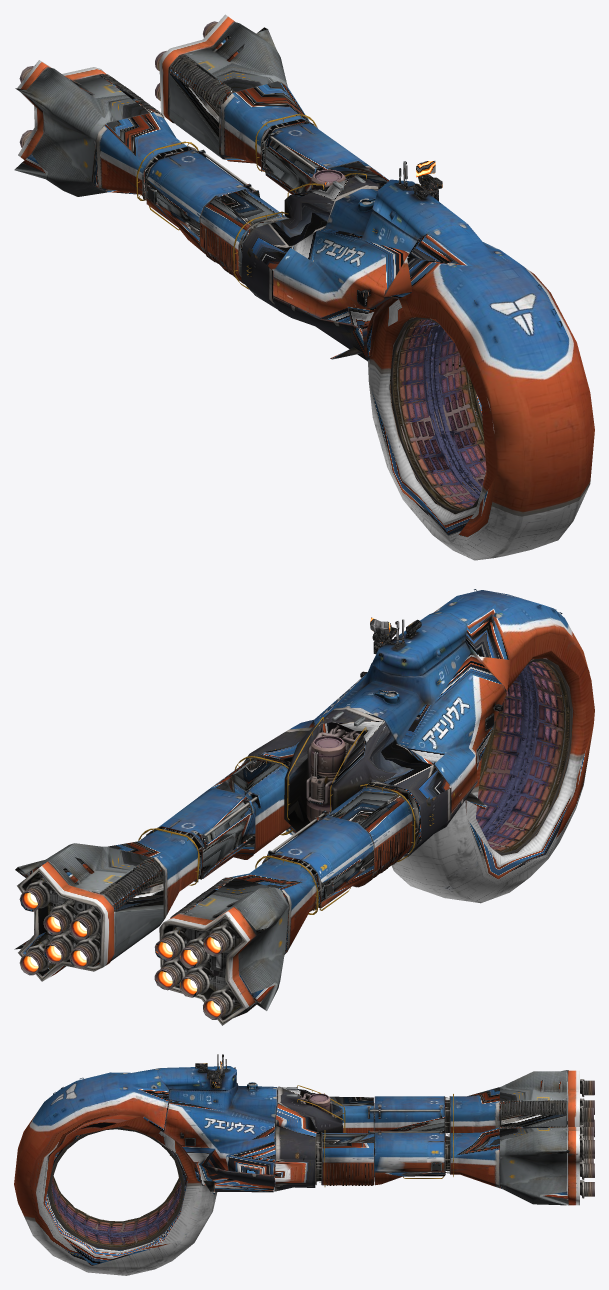
Rendered from mother2.glb.
The picture shows the model from 3 angles, top to bottom: view 1: azimuth 30°, elevation 25°; view 2: azimuth 150°, elevation 25°; view 3: azimuth 270°, elevation 25°; orthographic projection. The views are drawn at different scales.
Parts seen in each view (by area): view 1: mother2_0, mother2_1; view 2: mother2_0, mother2_1; view 3: mother2_0, mother2_1.
Boxes of the visible parts, <box> form: mother2_0: <box>19,21,594,560</box>; mother2_1: <box>14,14,486,514</box>; mother2_0: <box>19,589,594,1019</box>; mother2_1: <box>14,658,573,1025</box>; mother2_0: <box>14,1054,594,1275</box>; mother2_1: <box>48,1070,579,1250</box>.
Bounding box in the file's own units: 0.3337 × 0.4085 × 1.
2 materials, 2 textured.
